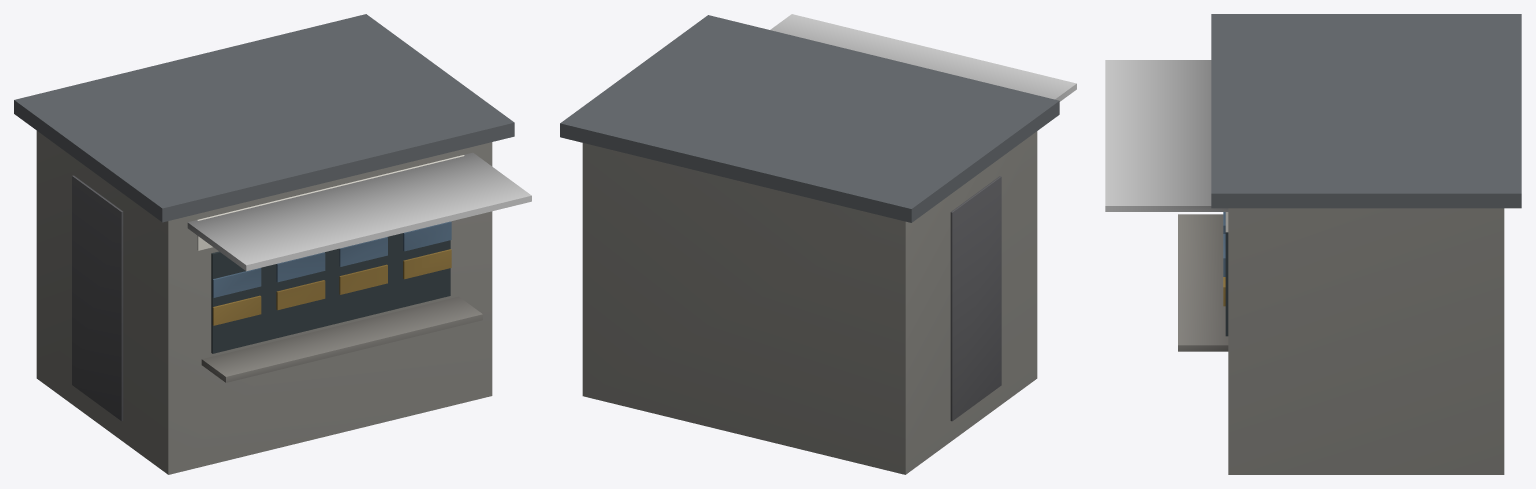
Rendered from kiosk.glb.
3 views of the same model, side by side, from view 1: azimuth 30°, elevation 25°; view 2: azimuth 150°, elevation 25°; view 3: azimuth 270°, elevation 25° (orthographic). The views are drawn at different scales.
Visible parts, largest first — view 1: lack, farbe, glas, licht; view 2: lack, farbe; view 3: lack, farbe.
Boxes of the visible parts, x1=… form: lack: x1=14, y1=14, x2=514, y2=474; farbe: x1=187, y1=152, x2=531, y2=271; glas: x1=211, y1=233, x2=450, y2=353; licht: x1=197, y1=155, x2=464, y2=250; lack: x1=560, y1=15, x2=1059, y2=474; farbe: x1=770, y1=14, x2=1076, y2=101; lack: x1=1178, y1=14, x2=1521, y2=474; farbe: x1=1105, y1=60, x2=1228, y2=211.
Size of the model in its own units: 3.7 by 2.77 by 3.62.
